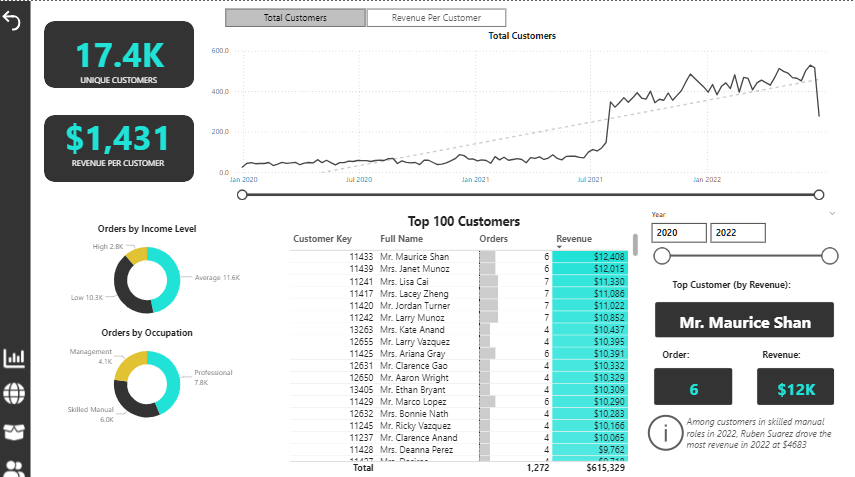

Layout of this report page (visuals, bound fields, positions):
{"tool":"powerbi","page":{"name":"Customer Detail","canvas":[1280,720],"ordinal":3},"visuals":[{"type":"shape","box":[0,0,48.6,720],"z":0},{"type":"shape","box":[68.6,30,224.3,100],"z":1000},{"type":"actionButton","box":[0,513.9,48.6,40.3],"z":1000,"group":"g1"},{"type":"card","fields":{"Values":["Measure Table.Total Customers"]},"box":[58.6,0,244.3,170],"z":2000},{"type":"actionButton","box":[0,624.1,48.6,40.3],"z":2000,"group":"g1"},{"type":"card","fields":{"Values":["Measure Table.Average Revenue Per Customer"]},"box":[48.6,140,244.3,160],"z":3000},{"type":"actionButton","box":[0,679.2,48.6,40.3],"z":3000,"group":"g1"},{"type":"shape","box":[68.6,170,224.3,100],"z":4000},{"type":"actionButton","box":[0,566.7,48.6,40.3],"z":4000,"group":"g1"},{"type":"card","fields":{"Values":["Measure Table.Average Revenue Per Customer"]},"box":[57.2,130.5,244.9,159.1],"z":5000},{"type":"donutChart","title":"Orders by Occupation ","fields":{"Category":["Customer Lookup.Occupation"],"Y":["Measure Table.Total Orders"]},"box":[59.8,487,325.6,153.9],"z":6000},{"type":"donutChart","title":"Orders by Income Level","fields":{"Category":["Customer Lookup.Income Level"],"Y":["Measure Table.Total Orders"]},"box":[59.8,331.6,325.6,153.9],"z":7000},{"type":"tableEx","title":"Top 100 Customers","fields":{"Values":["Customer Lookup.CustomerKey","Customer Lookup.Full Name","Measure Table.Total Orders","Measure Table.Total Revenue"]},"box":[430.6,316.7,530.6,393.1],"z":8000},{"type":"textbox","box":[1001.3,409,228.2,67.9],"z":9000},{"type":"cardVisual","fields":{"Data":["Min(Customer Lookup.Full Name)"]},"box":[962.8,432.1,303.8,89.7],"z":10000},{"type":"cardVisual","fields":{"Data":["Measure Table.Total Orders"]},"box":[961.5,529.5,153.8,91],"z":11000},{"type":"cardVisual","fields":{"Data":["Measure Table.Total Revenue"]},"box":[1115.4,529.5,151.3,91],"z":12000},{"type":"textbox","box":[1135.9,514.1,130.8,29.5],"z":13000},{"type":"textbox","box":[985.9,514.1,103.8,29.5],"z":14000},{"type":"slicer","fields":{"Values":["Calendar Lookup.Year"]},"box":[962.8,307.7,300,103.8],"z":15000},{"type":"lineChart","fields":{"Category":["Calendar Lookup.Date Hierachy.Start of Year","Calendar Lookup.Date Hierachy.Start of Month","Calendar Lookup.Date Hierachy.Start of Week","Calendar Lookup.Date Hierachy.Date"],"Y":["Measure Table.Total Customers"]},"box":[313.7,43.3,938.1,256.9],"z":16000},{"type":"actionButton","box":[962.5,609.7,304.2,68.1],"z":17000},{"type":"actionButton","box":[0,8.3,48.6,40.3],"z":18000},{"type":"group","id":"g1","title":"Navigation Buttons","box":[0,513.9,48.6,205.6],"z":19000},{"type":"slicer","fields":{"Values":["Customer Metric Selection.Customer Metric Selection"]},"box":[313.7,4.5,469,38.8],"z":20000}]}

Visuals, with their boxes on the page's 1280x720 design canvas (x1, y1, x2, y2). These are canvas units, not pixel positions in the 855x477 screenshot, which may show the page scaled, cropped or inside an application window:
shape: pyautogui.locateOnScreen(0, 0, 49, 720)
shape: pyautogui.locateOnScreen(69, 30, 293, 130)
actionButton: pyautogui.locateOnScreen(0, 514, 49, 554)
card - Measure Table.Total Customers: pyautogui.locateOnScreen(59, 0, 303, 170)
actionButton: pyautogui.locateOnScreen(0, 624, 49, 664)
card - Measure Table.Average Revenue Per Customer: pyautogui.locateOnScreen(49, 140, 293, 300)
actionButton: pyautogui.locateOnScreen(0, 679, 49, 720)
shape: pyautogui.locateOnScreen(69, 170, 293, 270)
actionButton: pyautogui.locateOnScreen(0, 567, 49, 607)
card - Measure Table.Average Revenue Per Customer: pyautogui.locateOnScreen(57, 130, 302, 290)
"Orders by Occupation " donutChart: pyautogui.locateOnScreen(60, 487, 385, 641)
"Orders by Income Level" donutChart: pyautogui.locateOnScreen(60, 332, 385, 486)
"Top 100 Customers" tableEx: pyautogui.locateOnScreen(431, 317, 961, 710)
textbox: pyautogui.locateOnScreen(1001, 409, 1230, 477)
cardVisual - Min(Customer Lookup.Full Name): pyautogui.locateOnScreen(963, 432, 1267, 522)
cardVisual - Measure Table.Total Orders: pyautogui.locateOnScreen(962, 530, 1115, 620)
cardVisual - Measure Table.Total Revenue: pyautogui.locateOnScreen(1115, 530, 1267, 620)
textbox: pyautogui.locateOnScreen(1136, 514, 1267, 544)
textbox: pyautogui.locateOnScreen(986, 514, 1090, 544)
slicer - Calendar Lookup.Year: pyautogui.locateOnScreen(963, 308, 1263, 412)
lineChart - Calendar Lookup.Date Hierachy.Start of Year x Calendar Lookup.Date Hierachy.Start of Month: pyautogui.locateOnScreen(314, 43, 1252, 300)
actionButton: pyautogui.locateOnScreen(962, 610, 1267, 678)
actionButton: pyautogui.locateOnScreen(0, 8, 49, 49)
"Navigation Buttons" group: pyautogui.locateOnScreen(0, 514, 49, 720)
slicer - Customer Metric Selection.Customer Metric Selection: pyautogui.locateOnScreen(314, 4, 783, 43)
